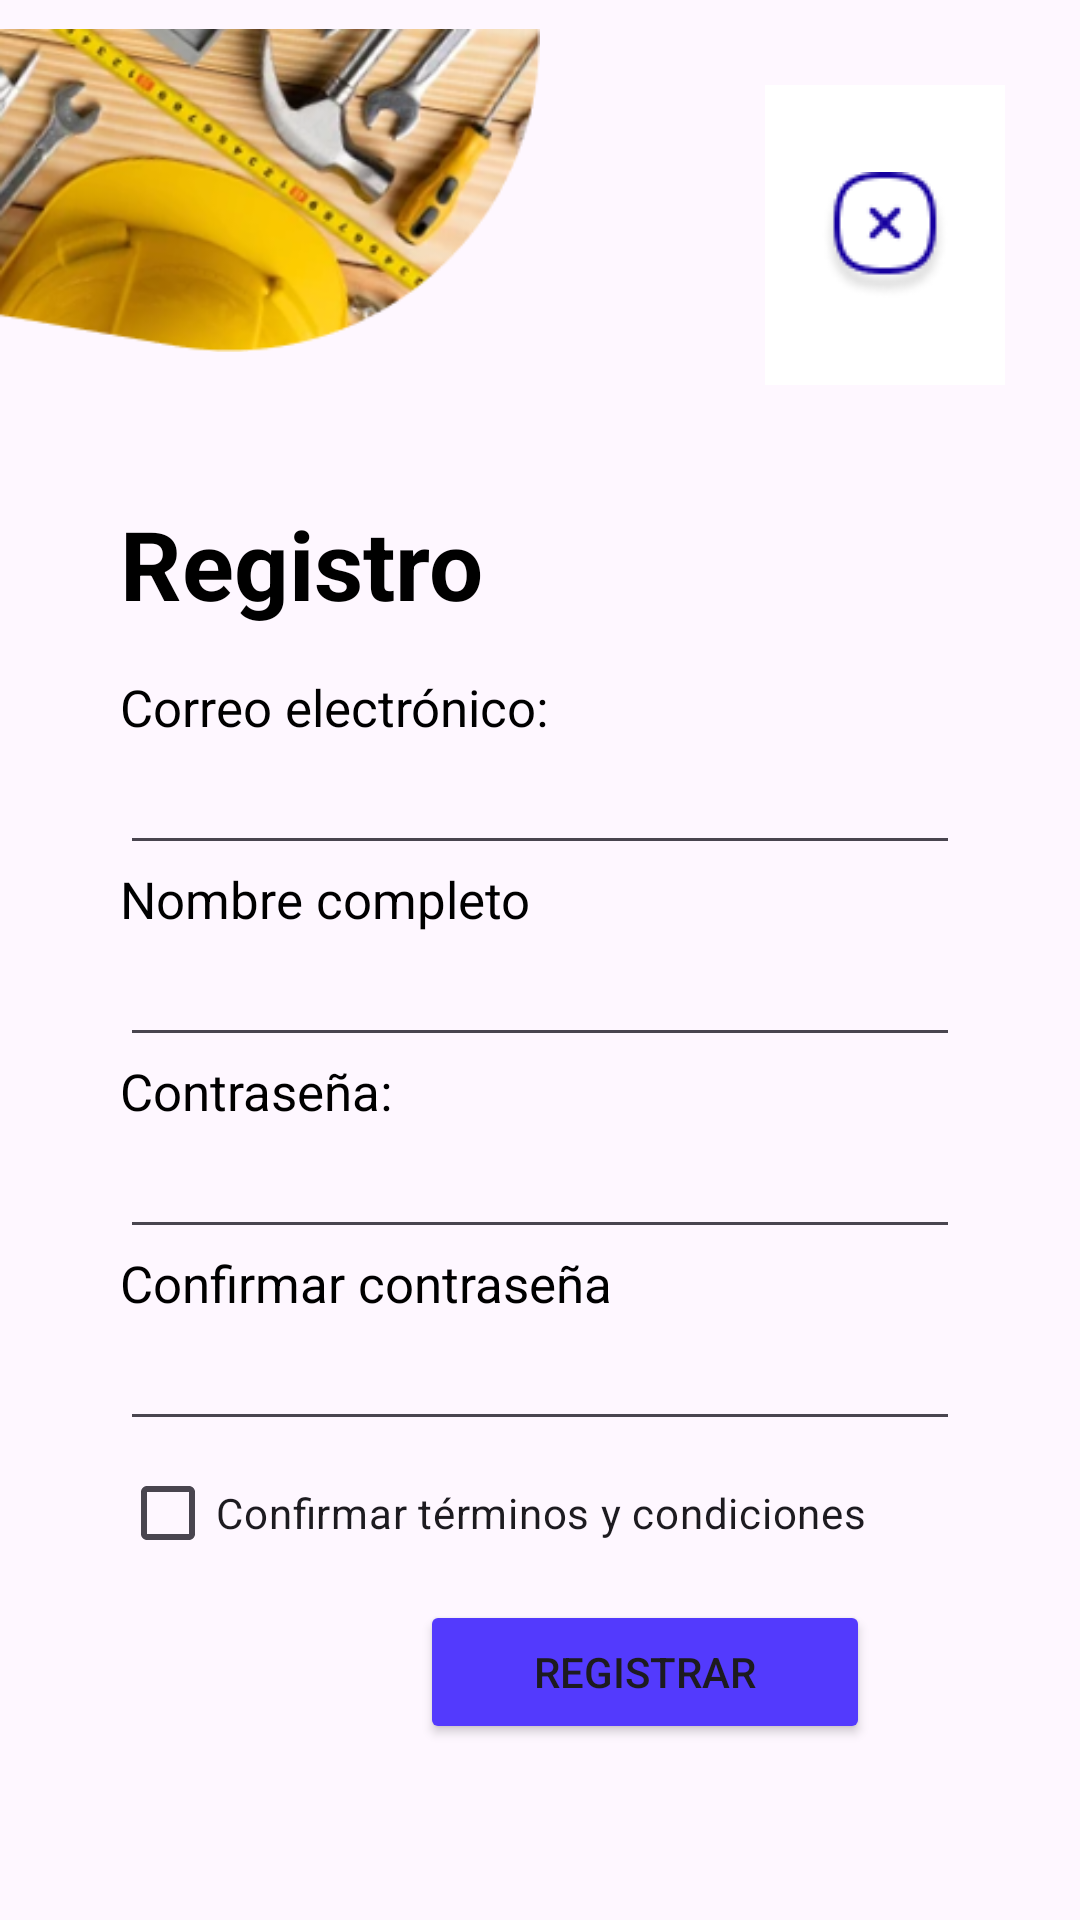

Screen size 1080×1920. Icon name, then its center in pixels as (x=x, y=y):
cerrar: (x=885, y=228)
